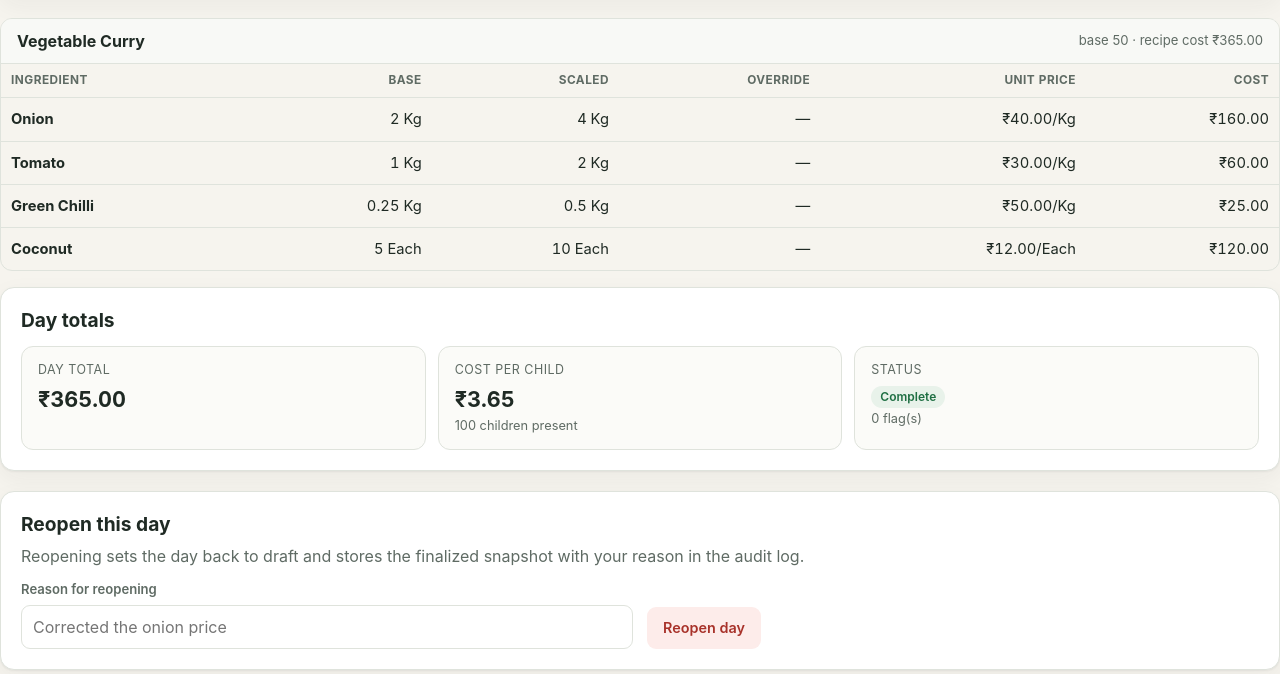
it: DailyReview screen › requires a reason before reopening a finalized day
(page scrolled)
Expected: the heading "Reopen this day" is shown, left=21, top=512, right=170, bottom=536
Click the button "Reopen day". click: x=704, y=628
box: left=647, top=607, right=761, bottom=649
(page scrolled)
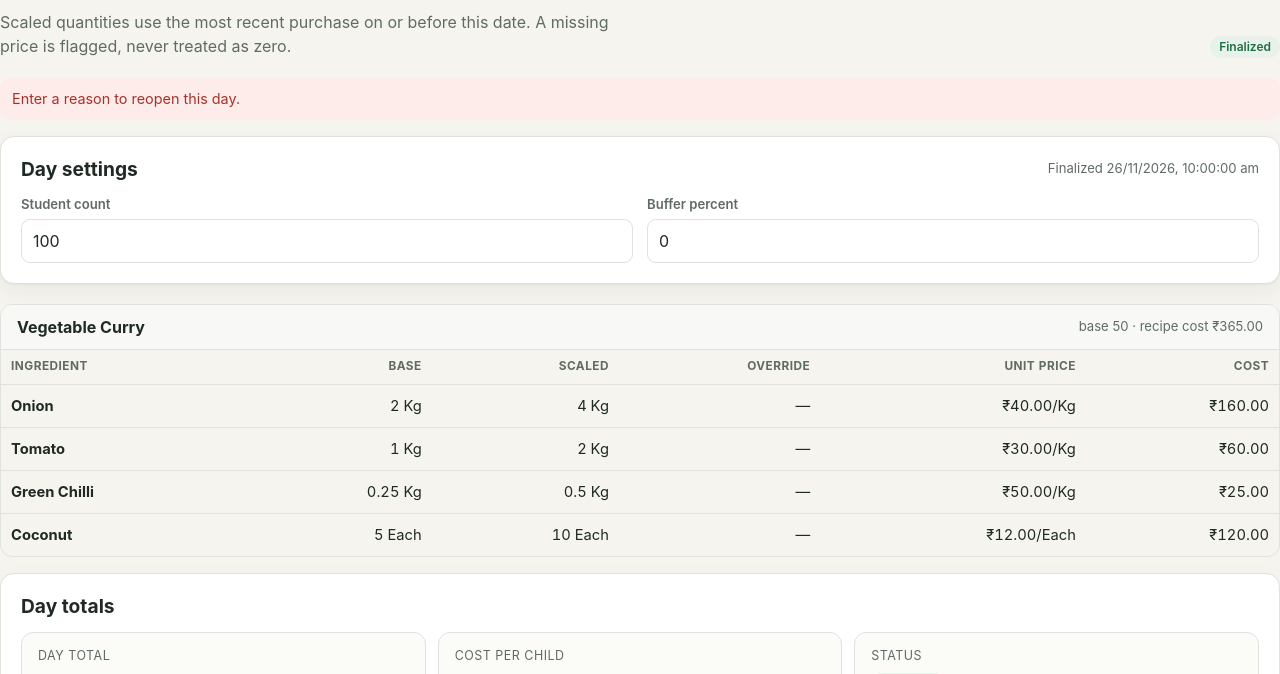
Now the text "Enter a reason to reopen this day." is shown, box left=0, top=78, right=1279, bottom=120
